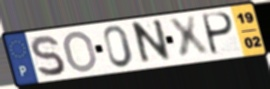0: (102, 25, 135, 69)
N: (132, 17, 173, 68)
O: (63, 29, 100, 74)
P: (201, 11, 236, 57)
S: (29, 33, 67, 78)
X: (166, 14, 212, 62)
